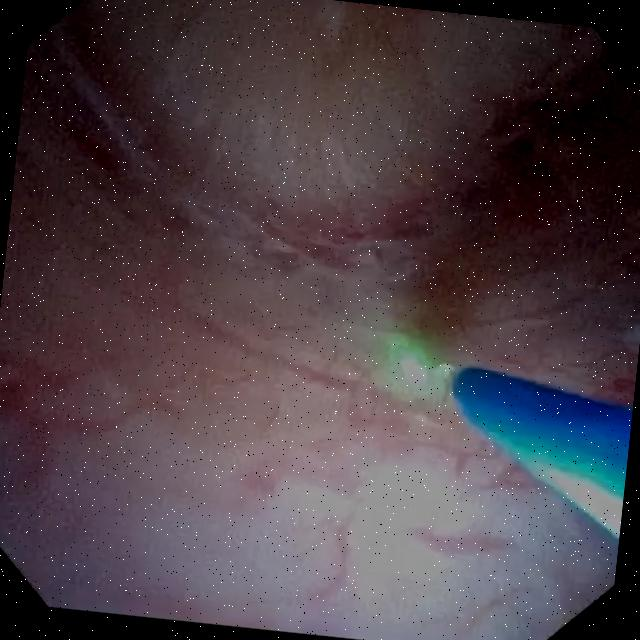laser-fibre: (430, 364, 457, 393)
stone-new: (399, 353, 430, 387)
